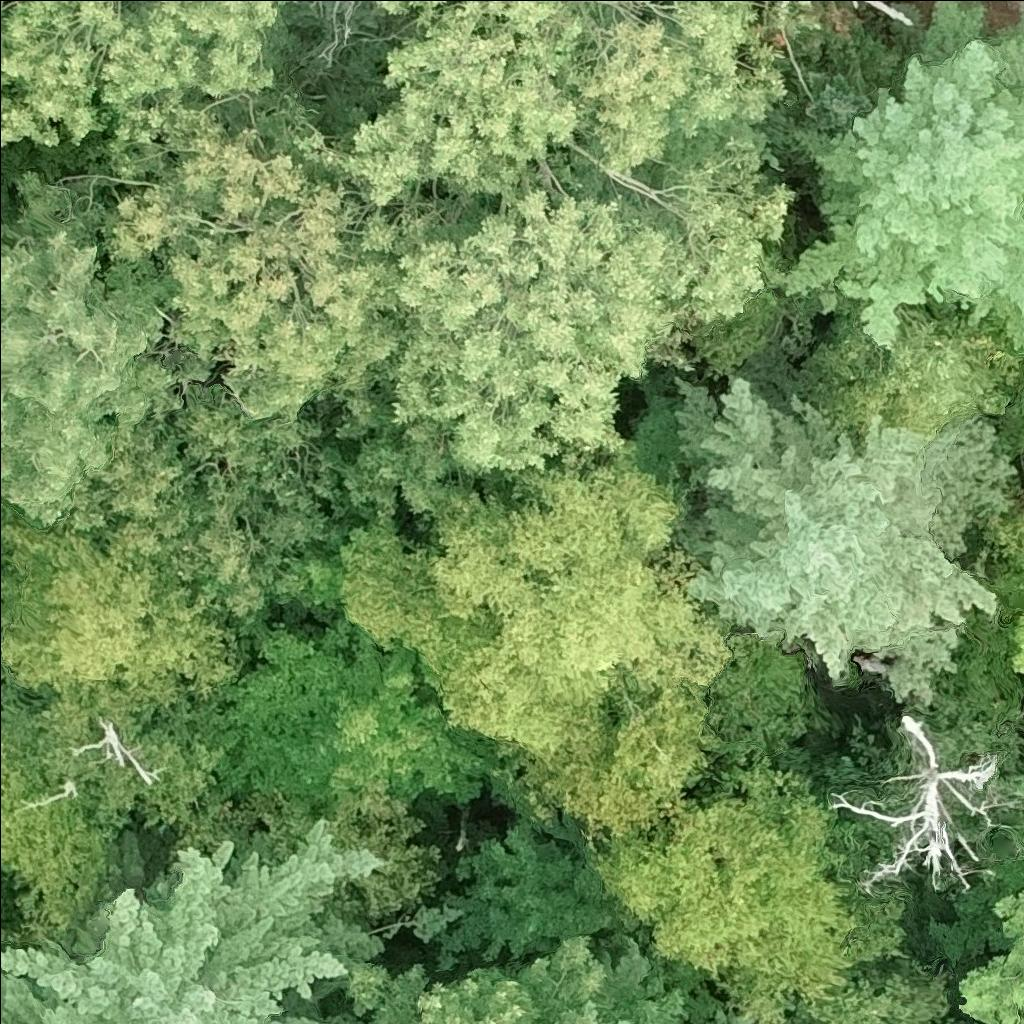crown: (68, 0, 790, 597), (678, 379, 1013, 703), (136, 612, 509, 884), (420, 465, 726, 779), (781, 0, 1023, 348), (583, 762, 897, 1023), (0, 825, 383, 1023), (524, 625, 820, 833), (0, 179, 176, 522), (0, 681, 222, 951), (0, 525, 236, 707), (0, 0, 291, 147), (273, 504, 496, 671), (791, 298, 1023, 455), (822, 720, 1023, 898), (347, 946, 685, 1023), (665, 267, 859, 380), (782, 960, 957, 1023), (945, 896, 1023, 1023), (0, 525, 18, 650), (829, 0, 918, 24), (995, 513, 1023, 581), (1000, 851, 1023, 904), (746, 0, 781, 25), (718, 1011, 758, 1023), (1013, 617, 1023, 664), (1012, 374, 1023, 392), (1023, 778, 1023, 786)
